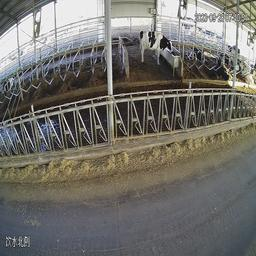cow: (137, 24, 176, 72)
